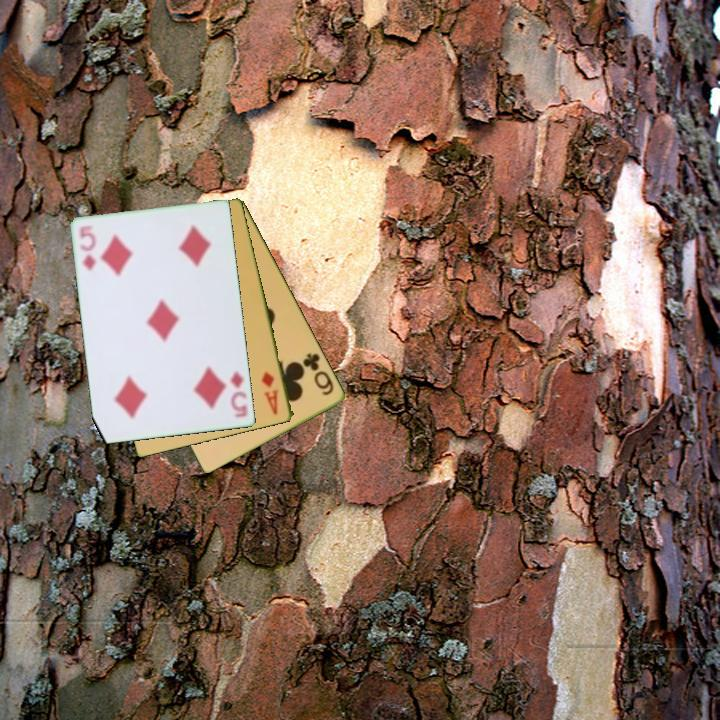5d: (227, 368, 251, 420), (77, 222, 99, 274)
6c: (300, 350, 337, 399)
Ad: (258, 368, 282, 418)
